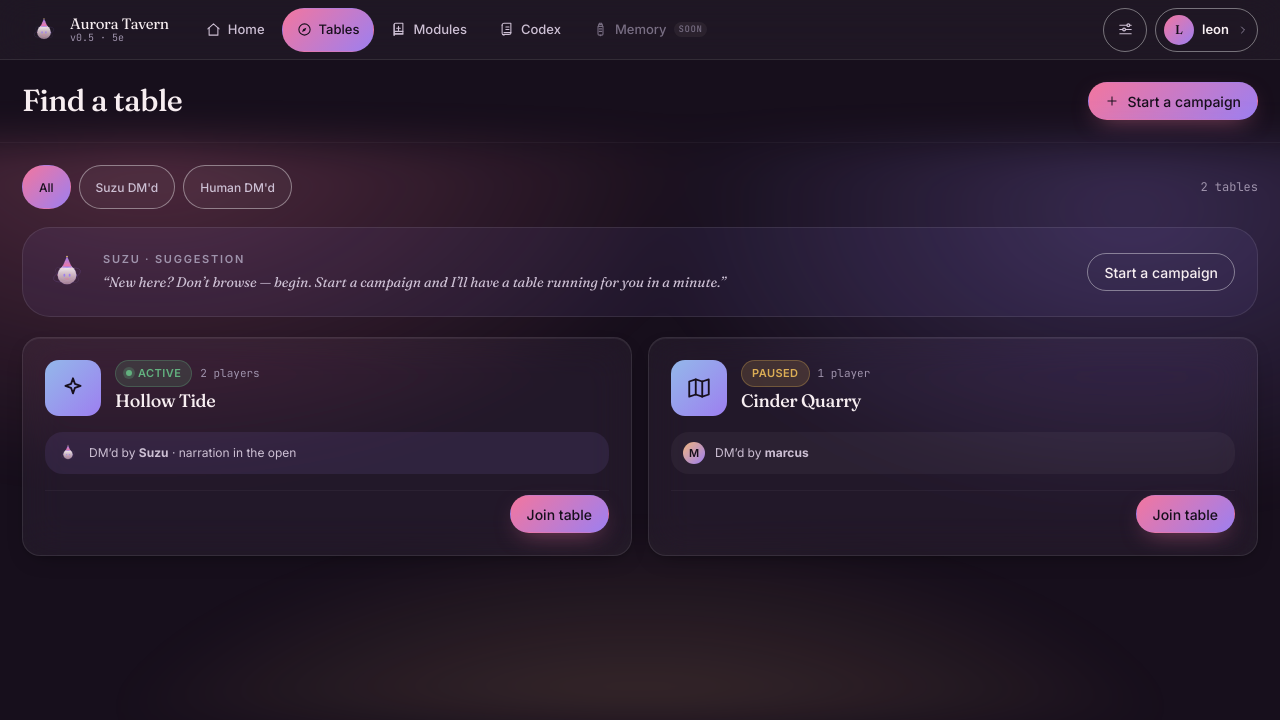
Test case: filters to Suzu-DM'd tables
Check: the heading "Cinder Quarry" is shown, box [741, 388, 861, 412]
Click the button "Suzu DM'd" at (127, 187), box [79, 165, 175, 209]
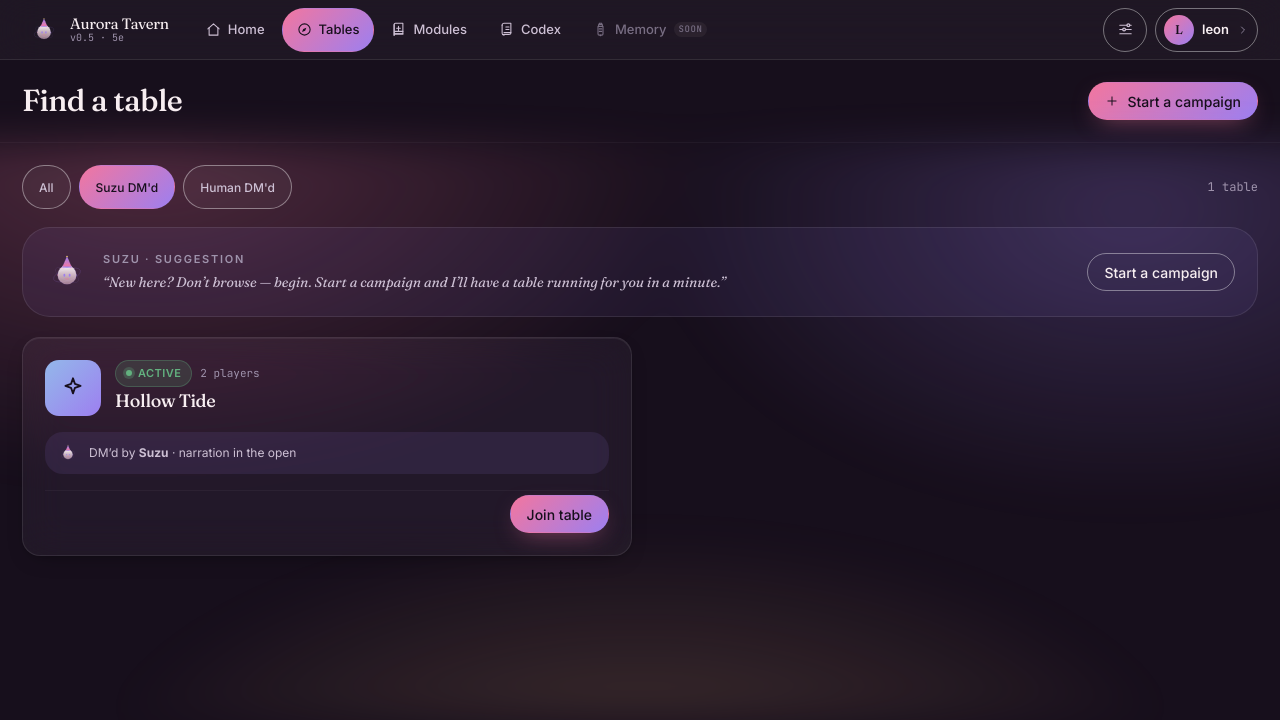
Check: the heading "Hollow Tide" is shown, box [115, 388, 215, 412]
Check: the heading "Cinder Quarry" is gone
